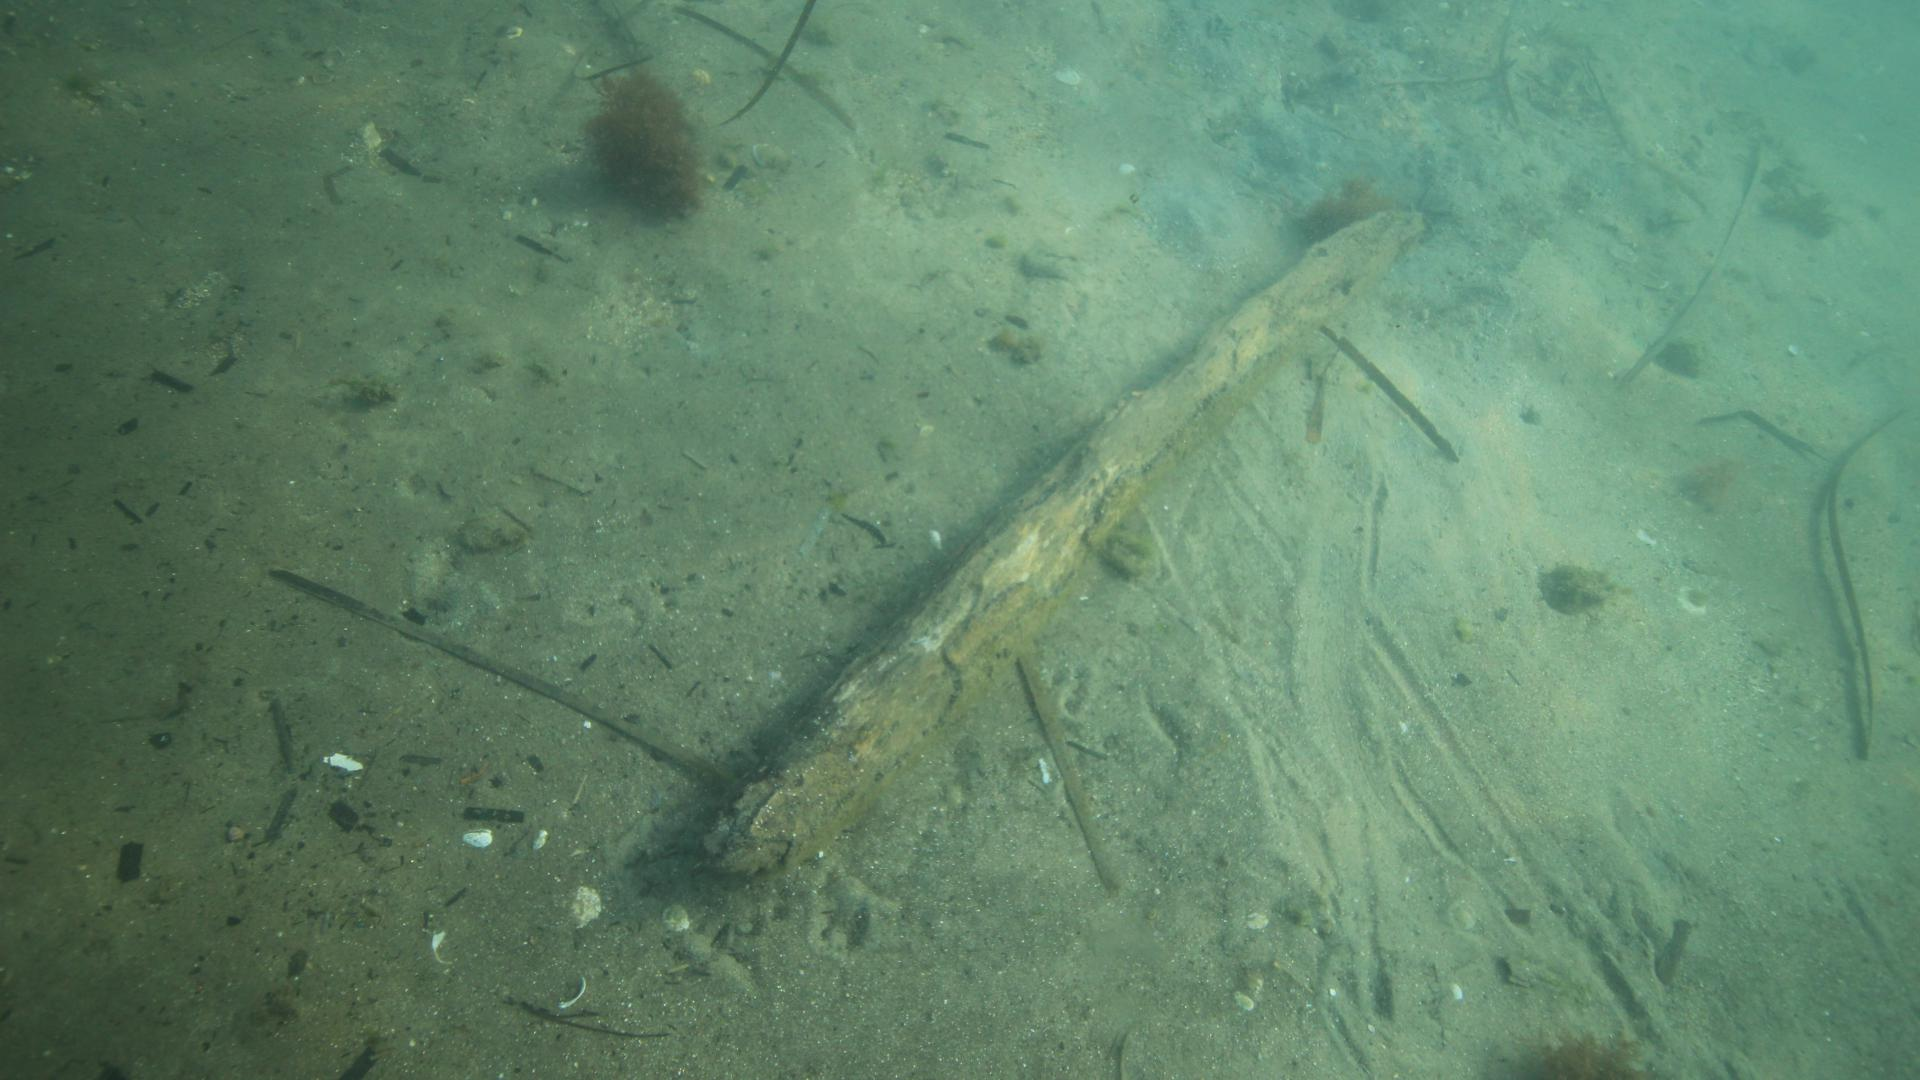wood: (688, 190, 1425, 878)
